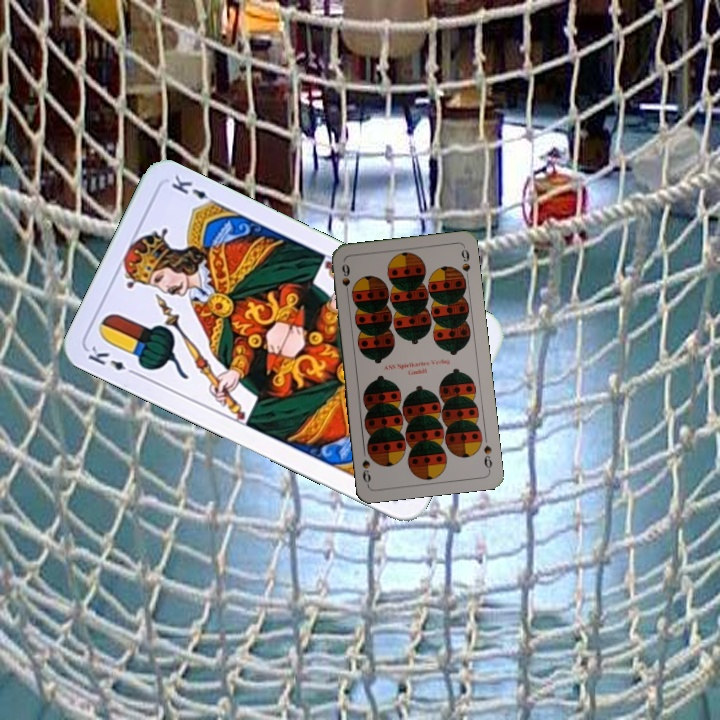EK: (84, 342, 141, 379)
S9: (338, 260, 352, 299), (480, 441, 495, 473)
